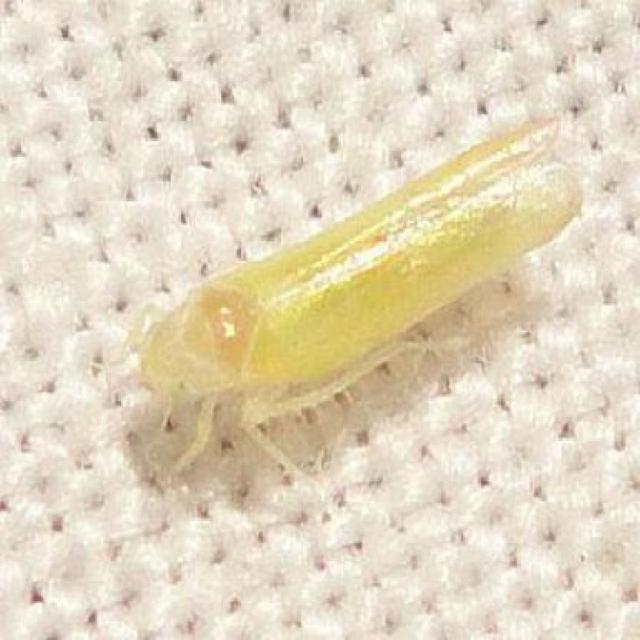green-leafhopper: (112, 115, 588, 480)
